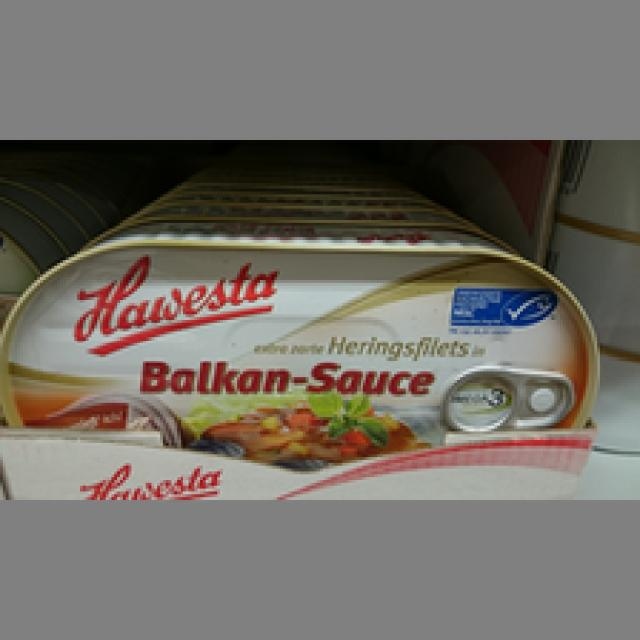groceries: (0, 229, 600, 454)
